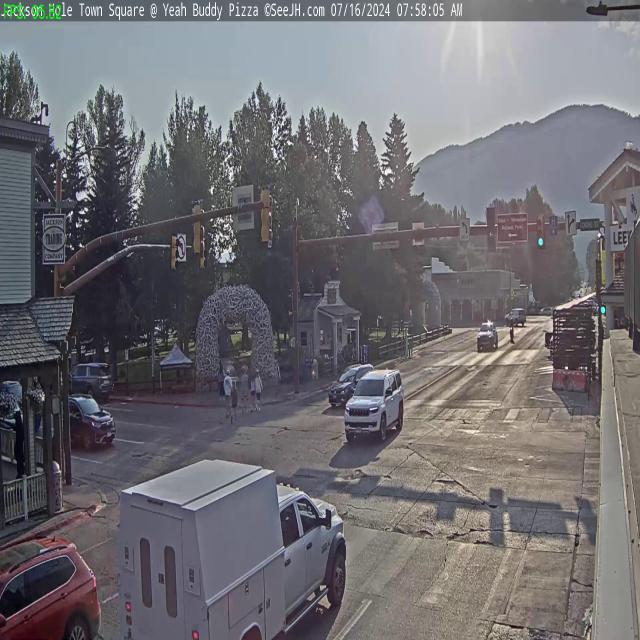person: (223, 364, 234, 422), (249, 364, 255, 415), (256, 365, 263, 408), (242, 364, 248, 411), (232, 378, 238, 422)
suv: (0, 534, 104, 640), (345, 369, 407, 446), (67, 401, 114, 453), (328, 361, 376, 406), (69, 360, 112, 406), (476, 321, 498, 352), (509, 306, 527, 327)
traffic light: (260, 184, 272, 245), (191, 199, 203, 256), (486, 207, 497, 256), (536, 214, 546, 248), (171, 233, 179, 272)
truck: (111, 450, 347, 640)
